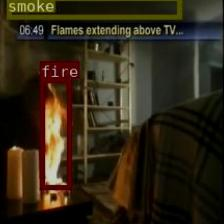fire: (39, 78, 71, 189)
smoke: (6, 0, 181, 18)
